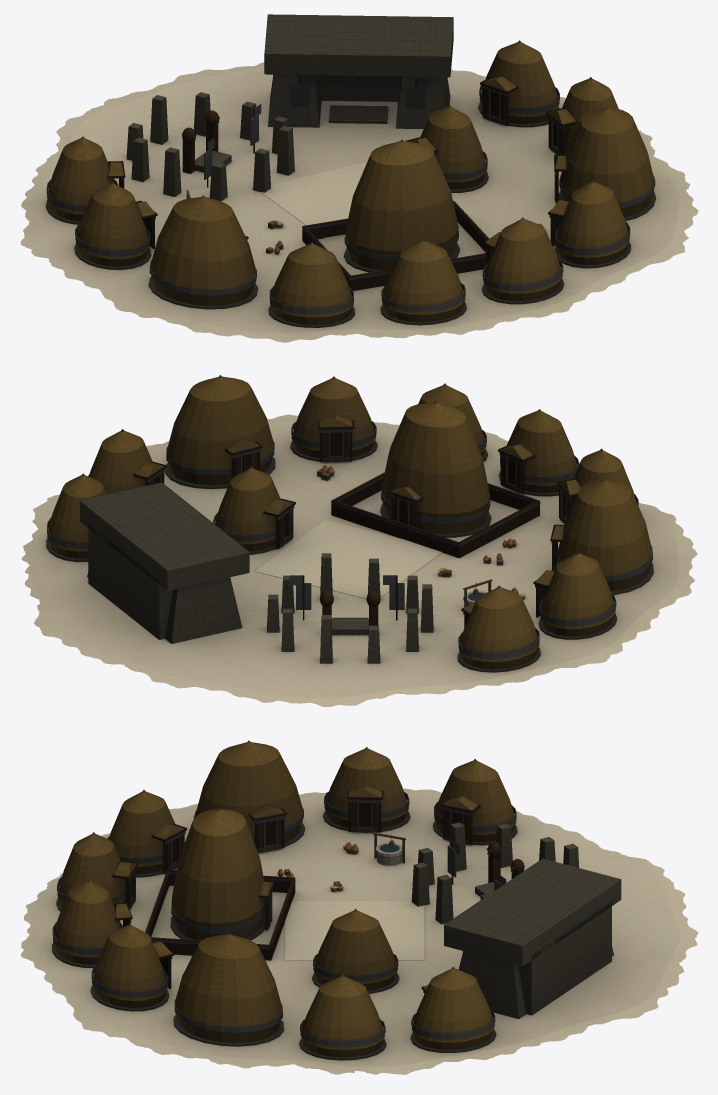
The model's file is bronze-town-medium-a-eastafrica-42bcf2ca.glb.
3 views of the same model, one above another, from view 1: azimuth 30°, elevation 25°; view 2: azimuth 150°, elevation 25°; view 3: azimuth 270°, elevation 25° (orthographic).
Visible parts, largest first — view 1: LOD0; view 2: LOD0; view 3: LOD0.
Boxes of the visible parts, <box> form: LOD0: <box>20,14,698,342</box>; LOD0: <box>21,375,697,706</box>; LOD0: <box>20,740,698,1074</box>.
Size of what is drawn, in the model's own units: 5.97 by 1.11 by 5.92.
Materials: 3 (3 with a texture image).
